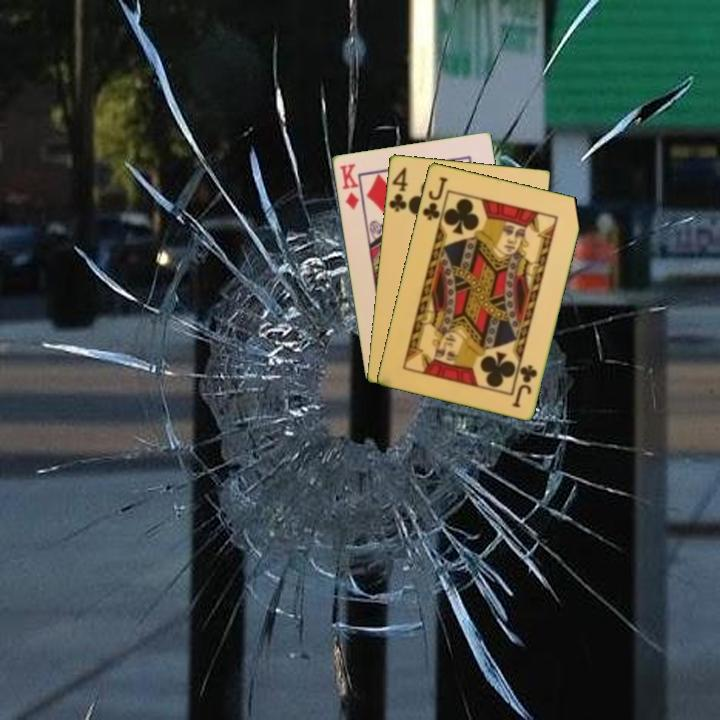4c: (385, 163, 411, 214)
Jc: (419, 173, 451, 223), (509, 361, 540, 410)
Kd: (336, 160, 365, 214)
